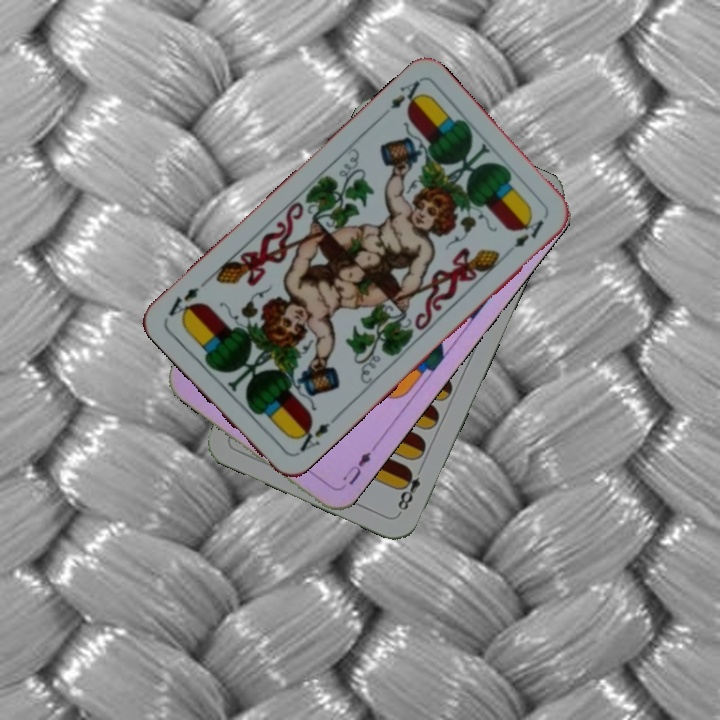E8: (393, 464, 424, 516)
EA: (290, 412, 340, 456), (386, 76, 426, 114)
EU: (338, 442, 379, 488)
